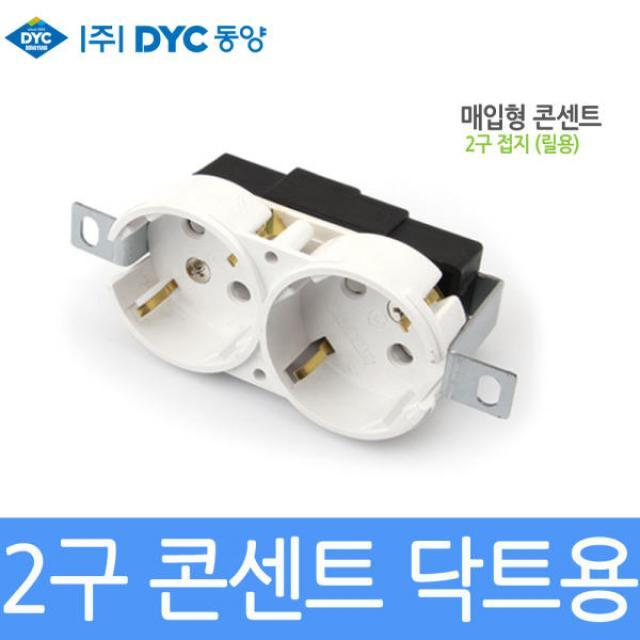typeb: (102, 162, 494, 460)
